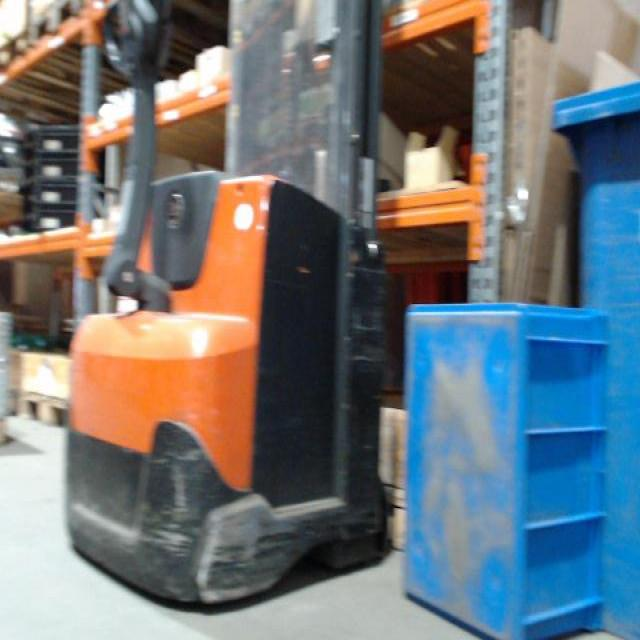pallet: (23, 4, 91, 62), (16, 384, 73, 430)
pallet_truck: (63, 3, 394, 615)
small_load_carrier: (31, 123, 93, 157), (30, 152, 93, 182), (30, 200, 89, 231), (30, 180, 91, 205)
